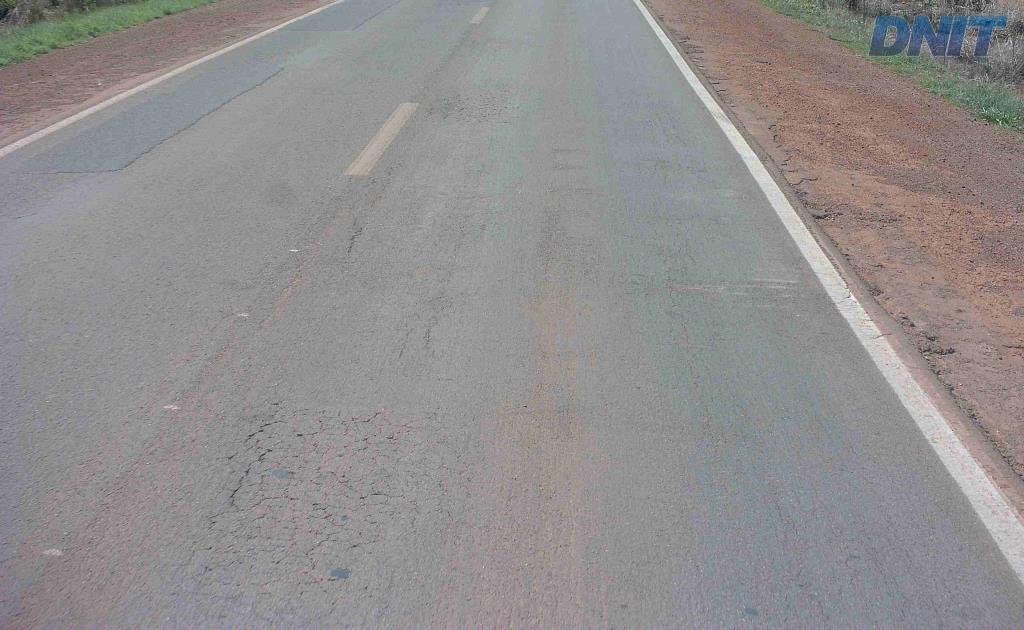crack: (227, 446, 273, 512)
